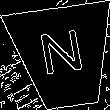N_S: (37, 29, 90, 85)
